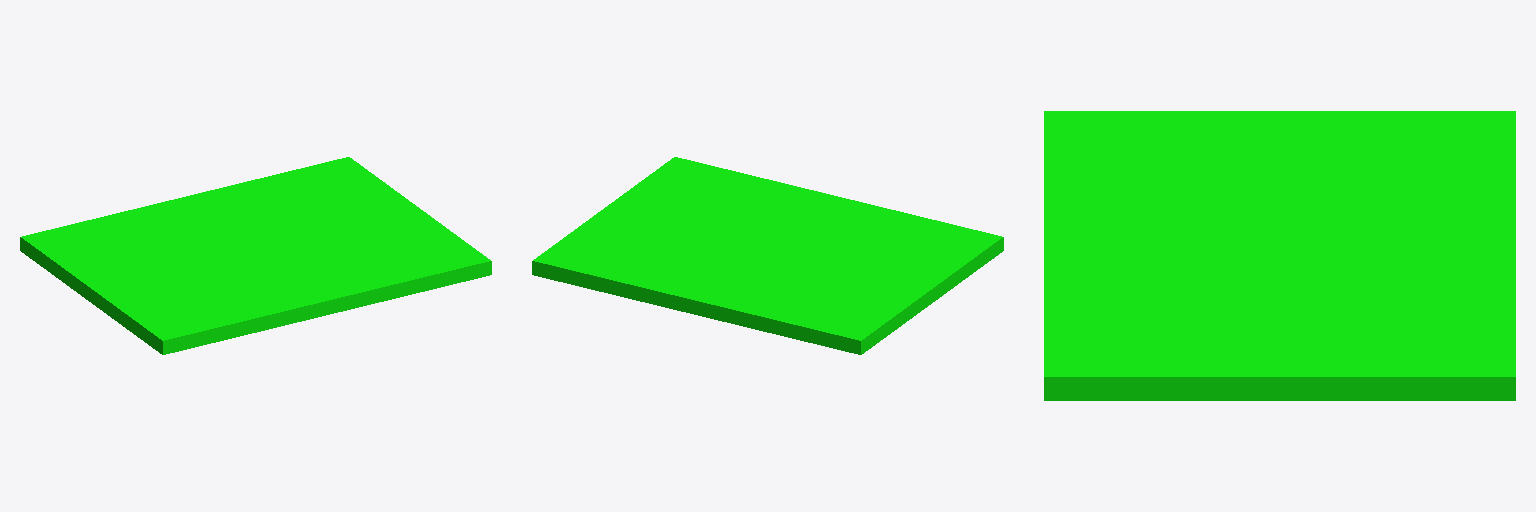
URDF robot description (navigation_footprint):
<?xml version="1.0"?>
<robot name="navigation_footprint">
  <link name="base_link">
    <visual>
      <origin xyz="0 0 0.025" rpy="0 0 0"/>
      <geometry>
        <box size="1.2 0.9 0.05"/>
      </geometry>
      <material name="navigation_green">
        <color rgba="0.10 1.00 0.10 0.55"/>
      </material>
    </visual>
  </link>
</robot>

--- Render facts (derived) ---
Views: 3 orthographic renders of the robot side by side, from view 1: azimuth 30°, elevation 25°; view 2: azimuth 150°, elevation 25°; view 3: azimuth 270°, elevation 25°.
Robot: navigation_footprint — 1 links, 0 joints (none); root link base_link; default pose: all joints at 0.
Visible links, largest first — view 1: base_link; view 2: base_link; view 3: base_link.
Link boxes in pixels (x1,y1,x2,y2): base_link: [20, 157, 491, 354]; base_link: [532, 157, 1003, 354]; base_link: [1044, 111, 1515, 400].
Size in the robot's own frame: 1.2 by 0.9 by 0.05 metres.
Geometry: primitives only (box / cylinder / sphere), no mesh files.
